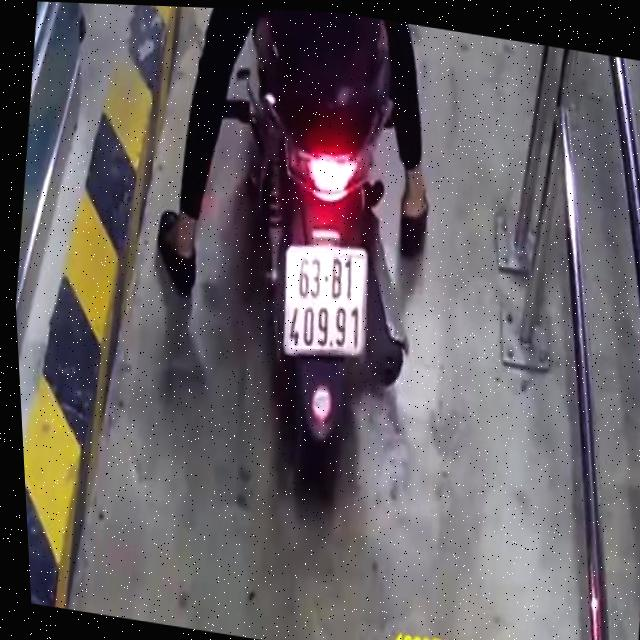motorcycle: (182, 15, 466, 521)
plate: (268, 230, 384, 373)
